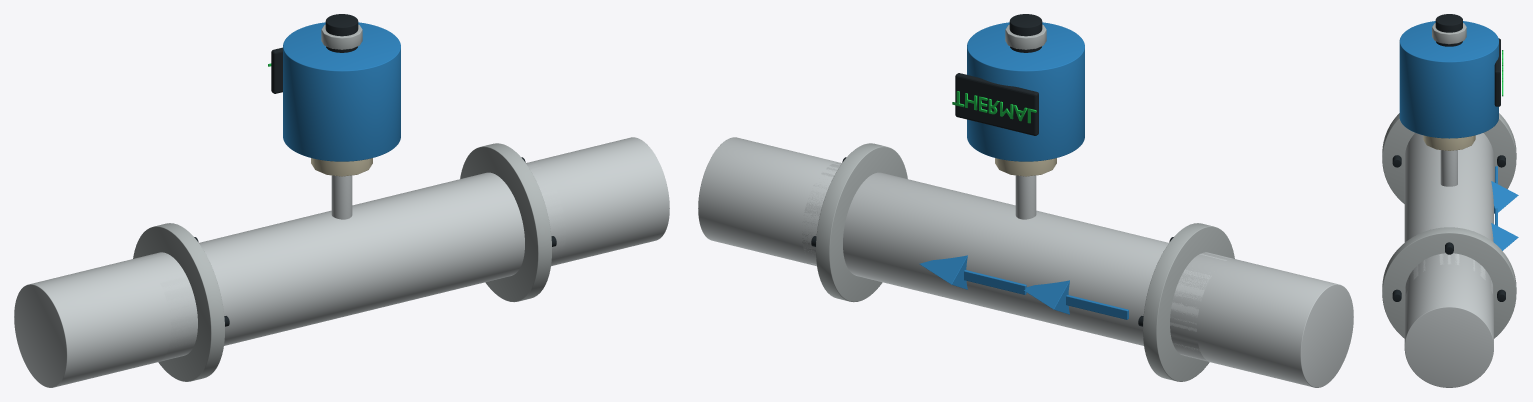
File: thermal_flow_sensor.glb
3 views of the same model, side by side, from view 1: azimuth 30°, elevation 25°; view 2: azimuth 150°, elevation 25°; view 3: azimuth 270°, elevation 25° (orthographic). The views are drawn at different scales.
Parts seen in each view (by area): view 1: PIPE_spool, MATING_PIPE_-0.92, FLOW_body, MATING_PIPE_0.92, PIPE_flange_-0.64, PIPE_flange_0.64, INSERTION_probe, COMPRESSION_fitting, M12_body, M12_nut; view 2: PIPE_spool, MATING_PIPE_-0.92, MATING_PIPE_0.92, FLOW_body, PIPE_flange_-0.64, PIPE_flange_0.64, FLOW_display, INSERTION_probe, FLOW_arrow_head_0.02, FLOW_arrow_head_-0.38, COMPRESSION_fitting, FLOW_units (+4 smaller); view 3: MATING_PIPE_0.92, FLOW_body, PIPE_spool, PIPE_flange_0.64, PIPE_flange_-0.64, INSERTION_probe, COMPRESSION_fitting, M12_body, M12_nut, FLOW_arrow_head_-0.38, FLOW_arrow_head_0.02, FLOW_display.
Part boxes in pixels (left/top/right/bottom): PIPE_spool: left=135, top=162, right=565, bottom=361; MATING_PIPE_-0.92: left=14, top=252, right=197, bottom=387; FLOW_body: left=283, top=22, right=400, bottom=161; MATING_PIPE_0.92: left=526, top=137, right=669, bottom=265; PIPE_flange_-0.64: left=133, top=223, right=224, bottom=381; PIPE_flange_0.64: left=460, top=143, right=551, bottom=302; INSERTION_probe: left=331, top=175, right=352, bottom=219; COMPRESSION_fitting: left=311, top=158, right=372, bottom=176; M12_body: left=325, top=14, right=358, bottom=52; M12_nut: left=321, top=24, right=362, bottom=49; PIPE_spool: left=802, top=163, right=1233, bottom=361; MATING_PIPE_-0.92: left=1170, top=252, right=1353, bottom=387; MATING_PIPE_0.92: left=698, top=137, right=841, bottom=265; FLOW_body: left=967, top=22, right=1084, bottom=161; PIPE_flange_-0.64: left=1143, top=223, right=1234, bottom=381; PIPE_flange_0.64: left=816, top=143, right=907, bottom=302; FLOW_display: left=955, top=73, right=1038, bottom=135; INSERTION_probe: left=1015, top=175, right=1036, bottom=219; FLOW_arrow_head_0.02: left=919, top=255, right=967, bottom=289; FLOW_arrow_head_-0.38: left=1023, top=280, right=1069, bottom=314; COMPRESSION_fitting: left=995, top=158, right=1056, bottom=176; FLOW_units: left=952, top=91, right=1036, bottom=123; MATING_PIPE_0.92: left=1404, top=253, right=1493, bottom=387; FLOW_body: left=1399, top=21, right=1498, bottom=138; PIPE_spool: left=1404, top=133, right=1493, bottom=295; PIPE_flange_0.64: left=1382, top=227, right=1516, bottom=338; PIPE_flange_-0.64: left=1382, top=113, right=1516, bottom=203; INSERTION_probe: left=1440, top=150, right=1457, bottom=186; COMPRESSION_fitting: left=1423, top=135, right=1475, bottom=150; M12_body: left=1435, top=14, right=1462, bottom=46; M12_nut: left=1432, top=23, right=1466, bottom=44; FLOW_arrow_head_-0.38: left=1491, top=181, right=1518, bottom=213; FLOW_arrow_head_0.02: left=1491, top=223, right=1518, bottom=250; FLOW_display: left=1494, top=38, right=1500, bottom=106.
Bounding box in the file's own units: 2.36 × 1.18 × 0.5489.
